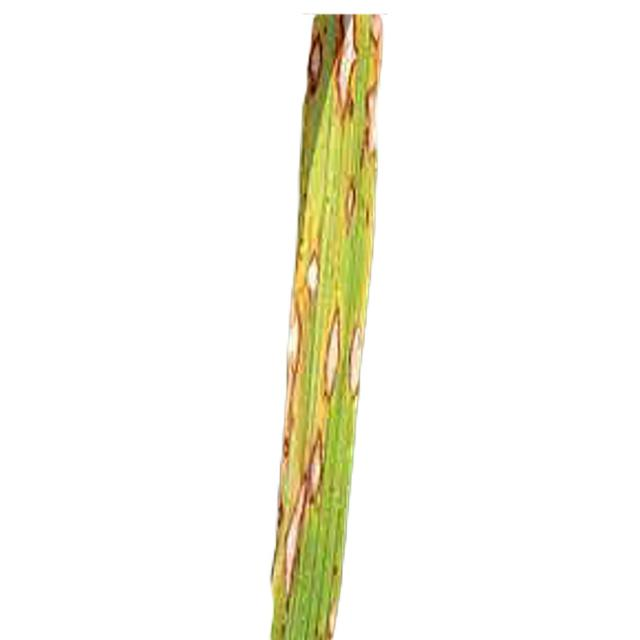Leaf blast: (258, 1, 404, 640)
